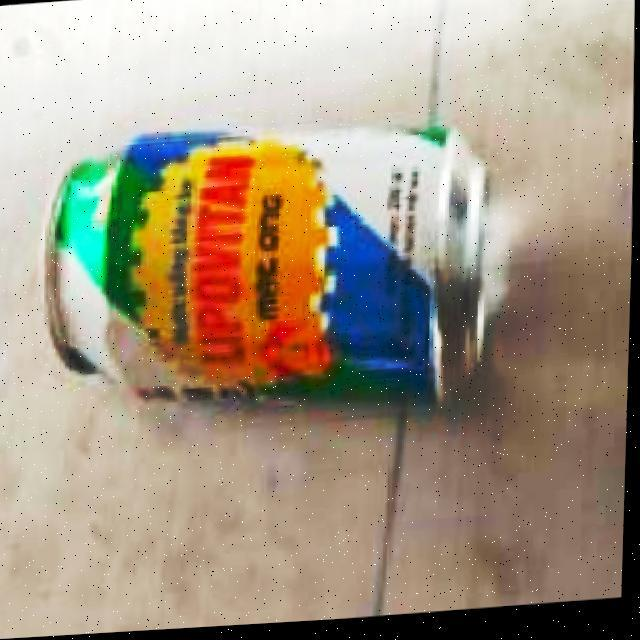Lata: (46, 126, 485, 401)
